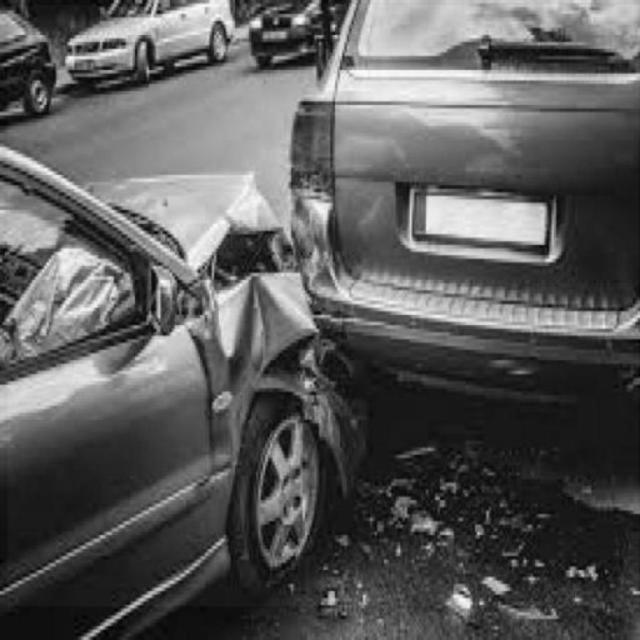accident: (8, 6, 639, 607)
